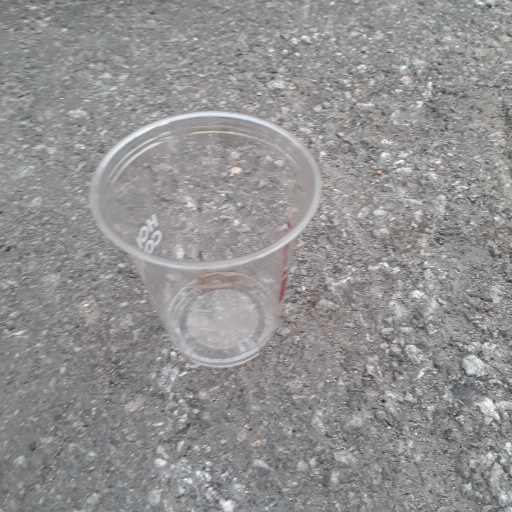Plastic_2: (87, 108, 323, 371)
